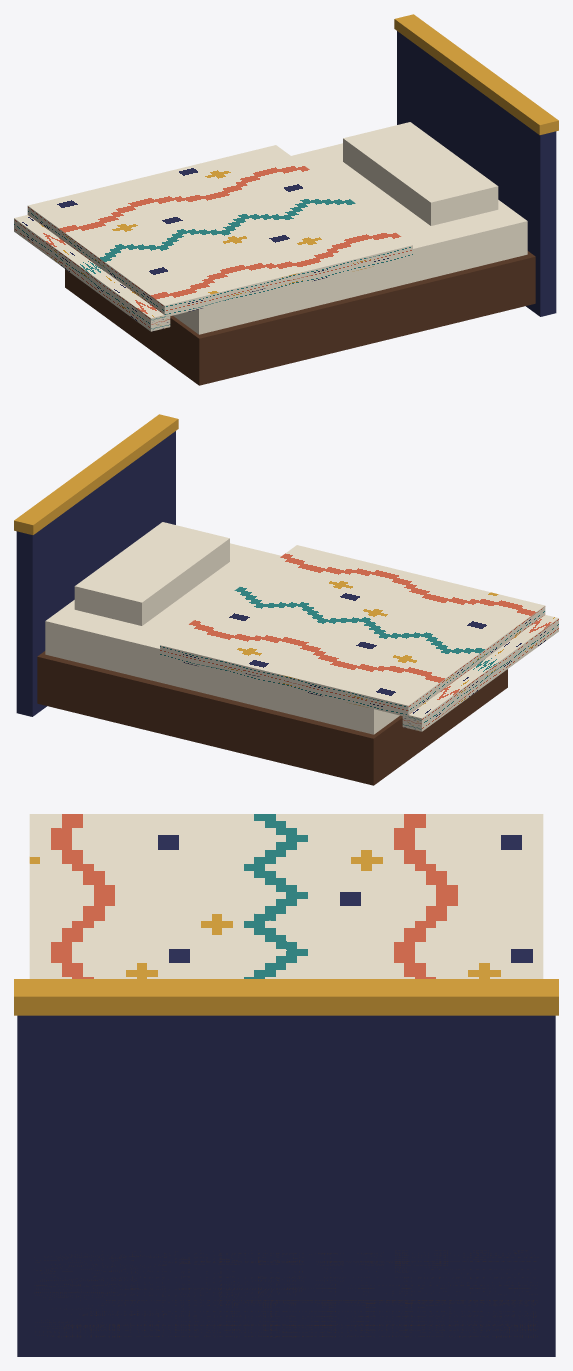
Rendered from bed.glb.
The picture shows the model from 3 angles, top to bottom: view 1: azimuth 30°, elevation 25°; view 2: azimuth 150°, elevation 25°; view 3: azimuth 270°, elevation 25°; orthographic projection. The views are drawn at different scales.
Visible parts, largest first — view 1: Box3, Box1, Box6, Box2, Box5, Box7, Box4; view 2: Box3, Box1, Box6, Box2, Box5, Box7, Box4; view 3: Box6, Box3, Box7, Box1.
Part boxes in pixels (x1,y1,x2,y2): Box3: (27, 145, 412, 316); Box1: (65, 251, 535, 385); Box6: (397, 31, 556, 316); Box2: (173, 143, 527, 334); Box5: (343, 122, 498, 225); Box7: (394, 14, 558, 134); Box4: (14, 215, 170, 331); Box3: (160, 545, 545, 717); Box1: (37, 651, 507, 785); Box6: (16, 431, 175, 716); Box2: (45, 543, 399, 734); Box5: (74, 522, 229, 625); Box7: (14, 414, 178, 534); Box4: (402, 615, 558, 731); Box6: (17, 1015, 555, 1356); Box3: (29, 814, 543, 978); Box7: (14, 979, 558, 1015); Box1: (36, 1251, 537, 1337).
Size of the model in its own units: 2.52 by 1.15 by 1.57.
Materials: 5 (1 with a texture image).
